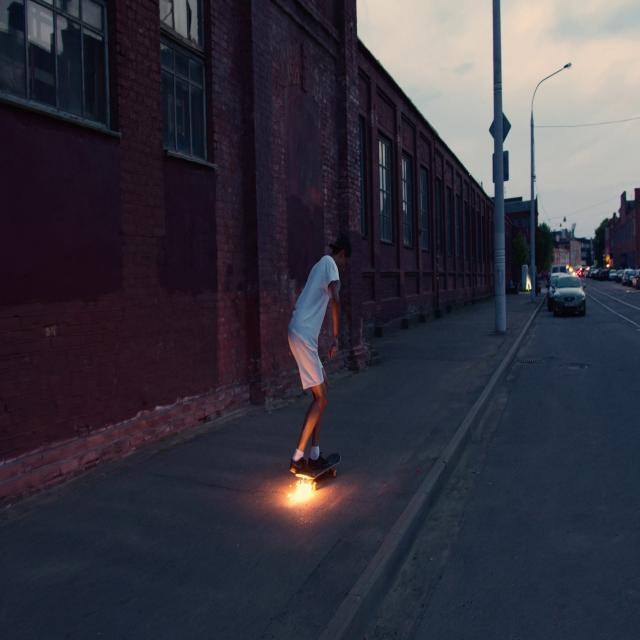Fire: (288, 473, 320, 512)
